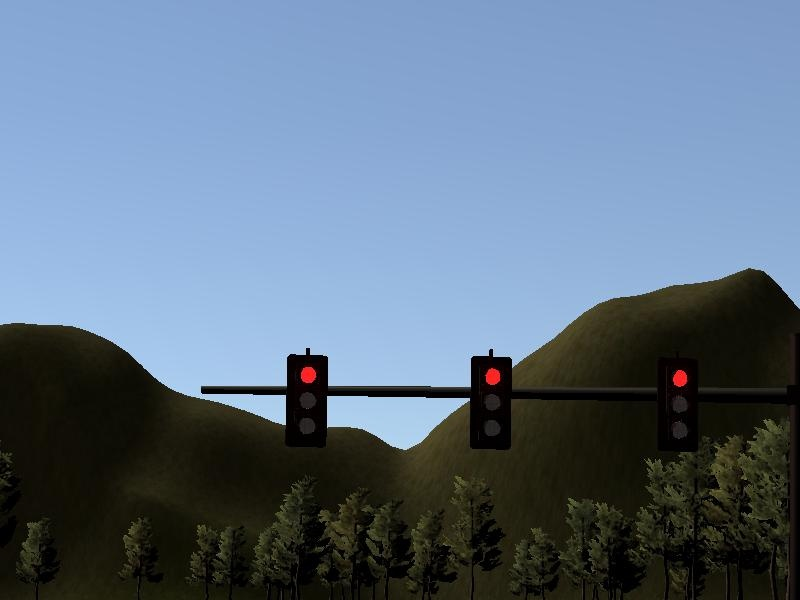red: (656, 360, 700, 454), (468, 357, 512, 451), (285, 354, 328, 448)
